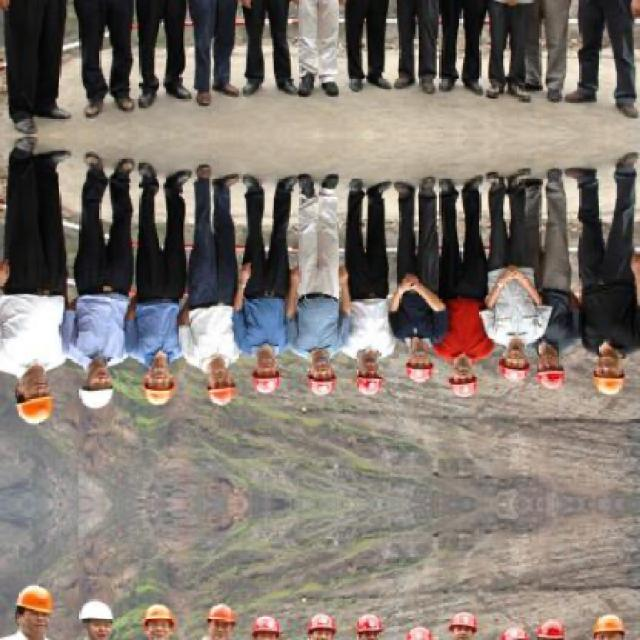con casco: (124, 339, 175, 411), (66, 355, 125, 416), (176, 354, 240, 406), (234, 336, 284, 398), (3, 374, 53, 435), (287, 344, 339, 399), (488, 332, 535, 385), (436, 358, 492, 402), (395, 336, 448, 382), (592, 349, 638, 397), (345, 353, 390, 393), (540, 348, 572, 395)
